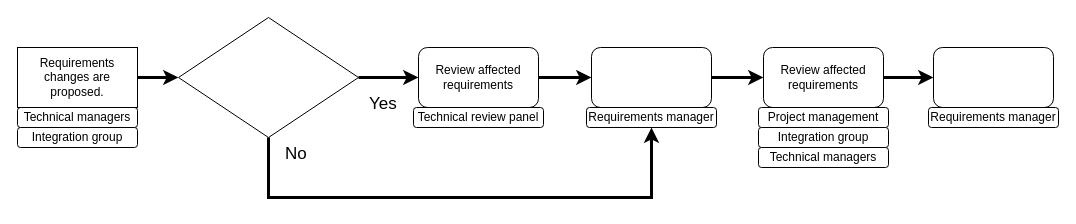
Image size: 1076x224. Some labels were removed from this diagram. Here are the shapes that lost their labels. From the top down, the centre of each, then its label:
(268,77): Significant impact to cost, schedule, or scope?
(651,77): Status update to affected requirements
(993,77): Generate new baseline
